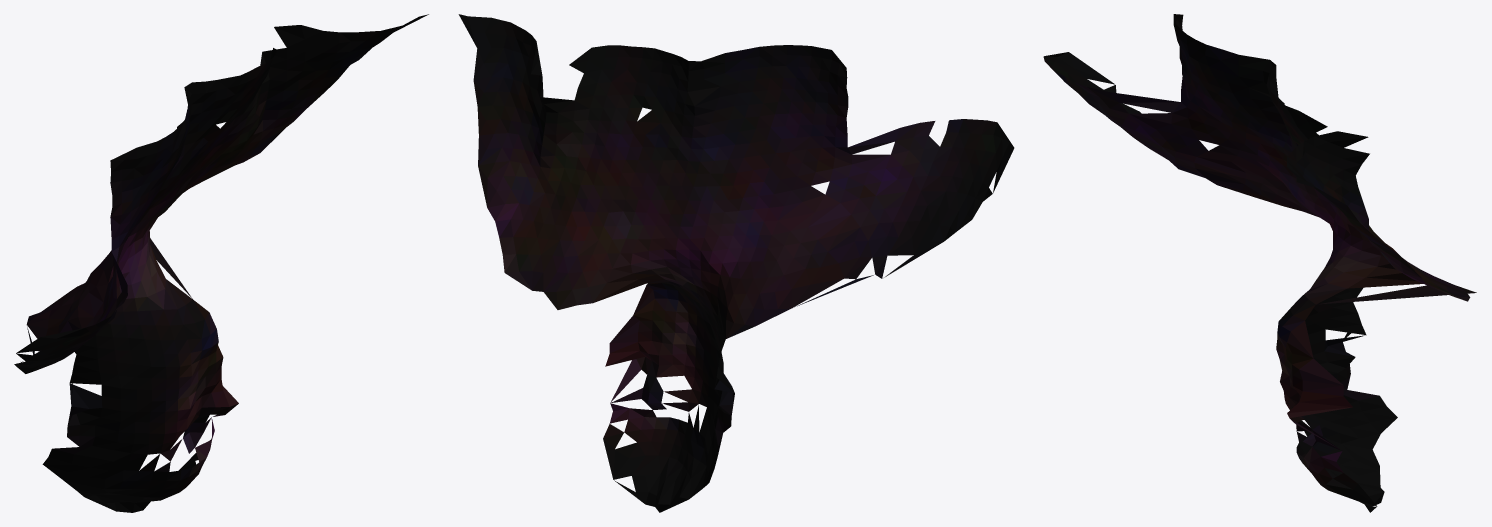
3 renders of one model, left to right at view 1: azimuth 30°, elevation 25°; view 2: azimuth 150°, elevation 25°; view 3: azimuth 270°, elevation 25°, orthographic. The views are drawn at different scales.
Visible parts, largest first — view 1: ofMesh; view 2: ofMesh; view 3: ofMesh.
Boxes of the visible parts, bbox=[...] form: ofMesh: bbox=[14, 14, 428, 512]; ofMesh: bbox=[458, 14, 1014, 512]; ofMesh: bbox=[1043, 14, 1476, 512].
Bounding box in the file's own units: 470 × 410 × 360.
Materials: 1 (1 with a texture image).
